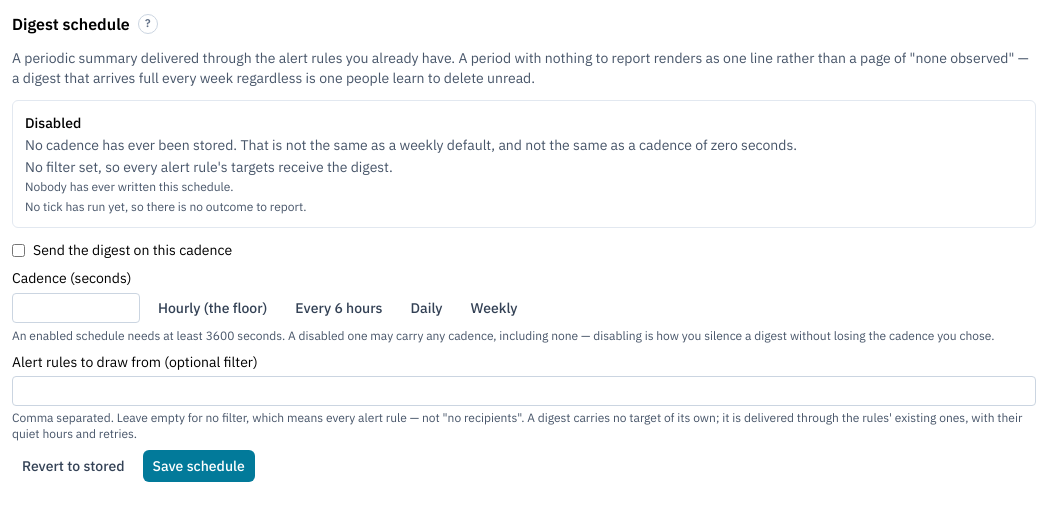
DigestSchedulePanel (T-3002 AC5) › round-trips through PUT and re-renders the daemon's stored value
Check: the element with test id "digest-stored" is shown, box [12,100,1036,228]
Click the checkbox labelled "Send the digest on this cadence": [18, 250] box [12,244,25,256]
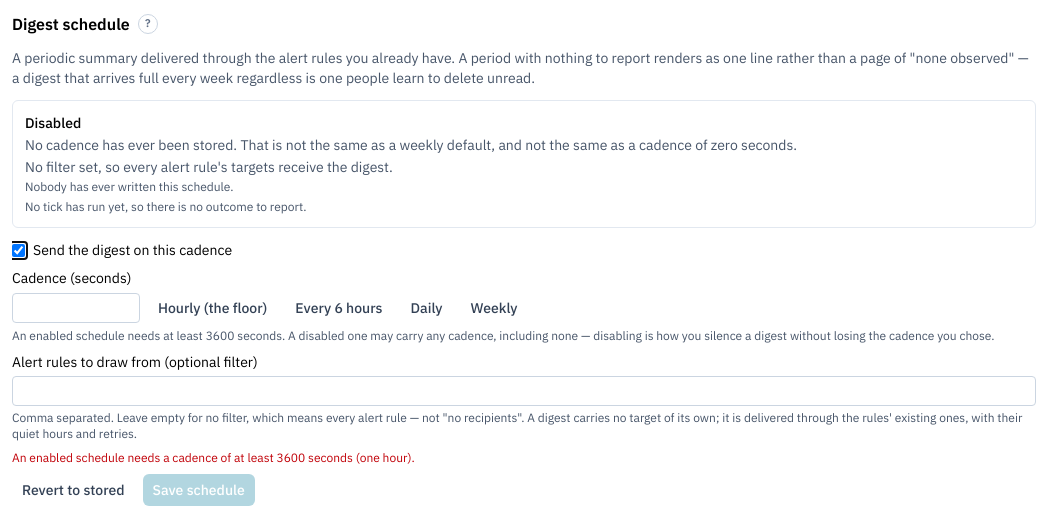
Click the button "Weekly": [494, 308] box [460,292,528,324]
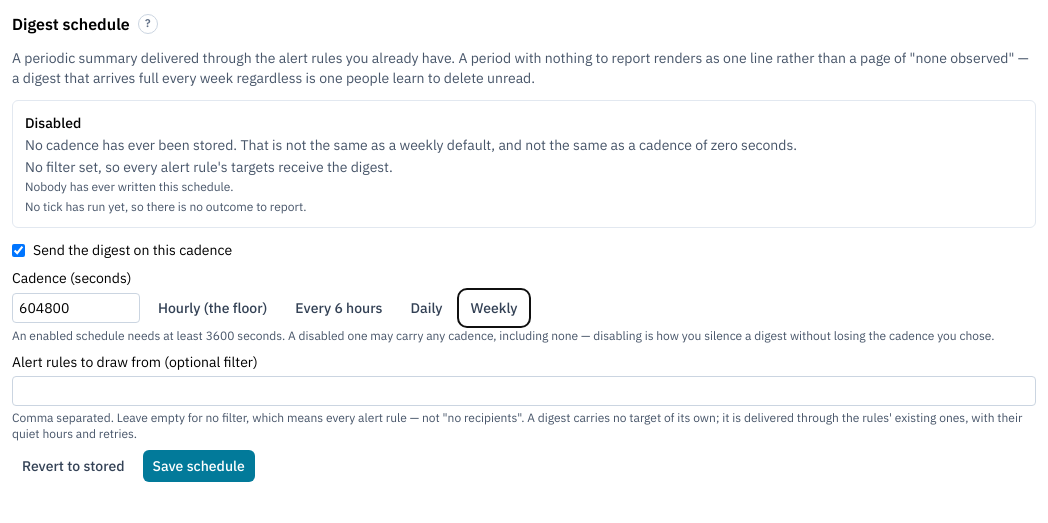
In the field named "digest alert rule ids": [524, 391] box [12,376,1036,406], type "rule-a, rule-b"
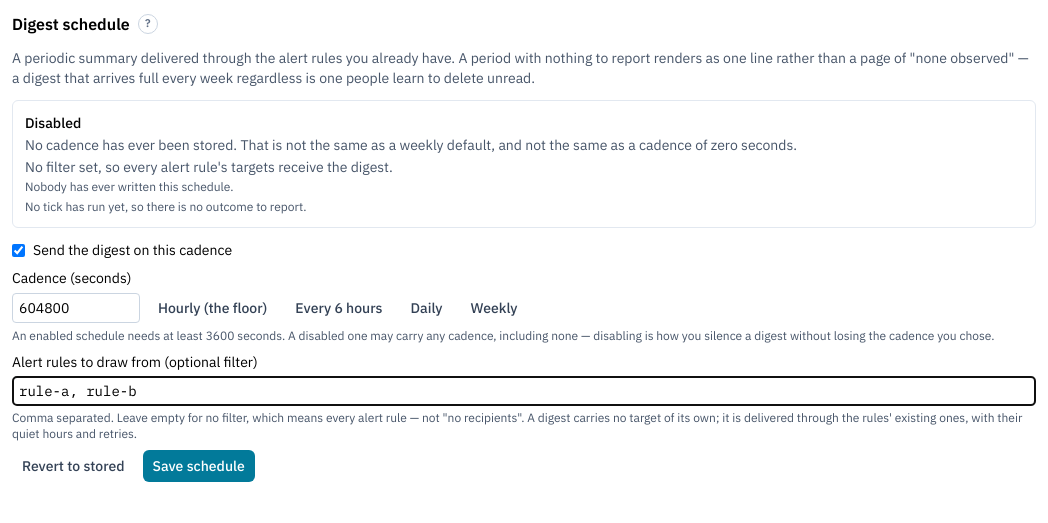
Click the button "Save schedule": [199, 466] box [143,450,255,482]
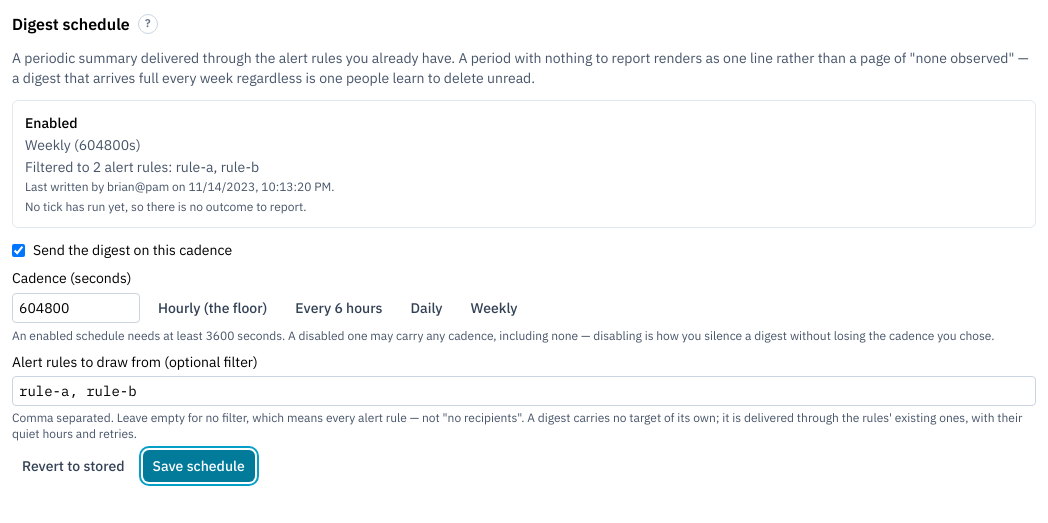
Check: the element with test id "digest-stored" shows "Weekly (604800s)", box [25,136,141,154]
Check: the element with test id "digest-stored" shows "brian@pam", box [25,179,335,194]
Check: the element with test id "digest-stored" shows "Filtered to 2 alert rules", box [25,158,259,176]
